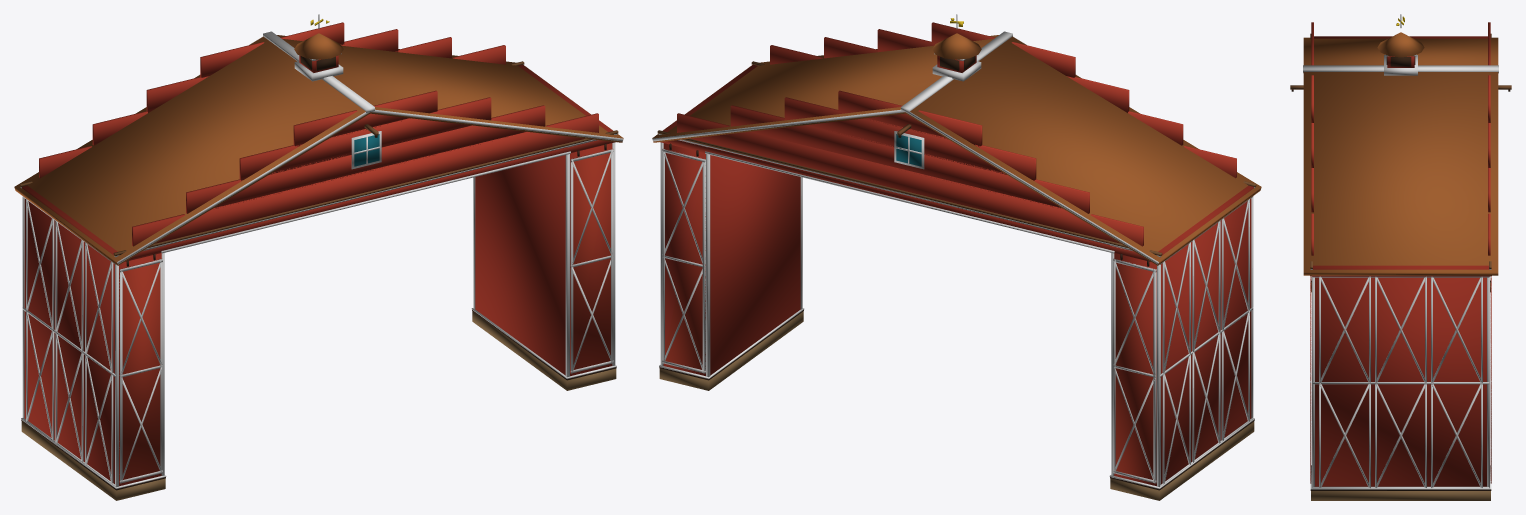
File: pass_barn.glb
3 renders of one model, left to right at view 1: azimuth 30°, elevation 25°; view 2: azimuth 150°, elevation 25°; view 3: azimuth 270°, elevation 25°, orthographic. The views are drawn at different scales.
Parts seen in each view (by area): view 1: pass_barn; view 2: pass_barn; view 3: pass_barn.
Boxes of the visible parts, left/top/right/bottom form: pass_barn: left=14, top=14, right=623, bottom=500; pass_barn: left=652, top=14, right=1261, bottom=500; pass_barn: left=1290, top=14, right=1511, bottom=500.
Size of the model in its own units: 37.68 by 27.79 by 15.
